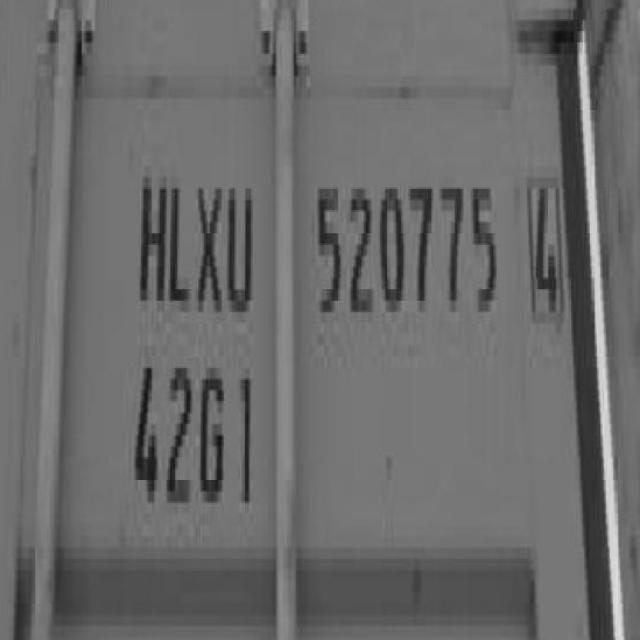dv: (523, 165, 567, 327)
owner: (128, 165, 257, 325)
serial: (310, 163, 500, 330)
size: (129, 348, 257, 519)
